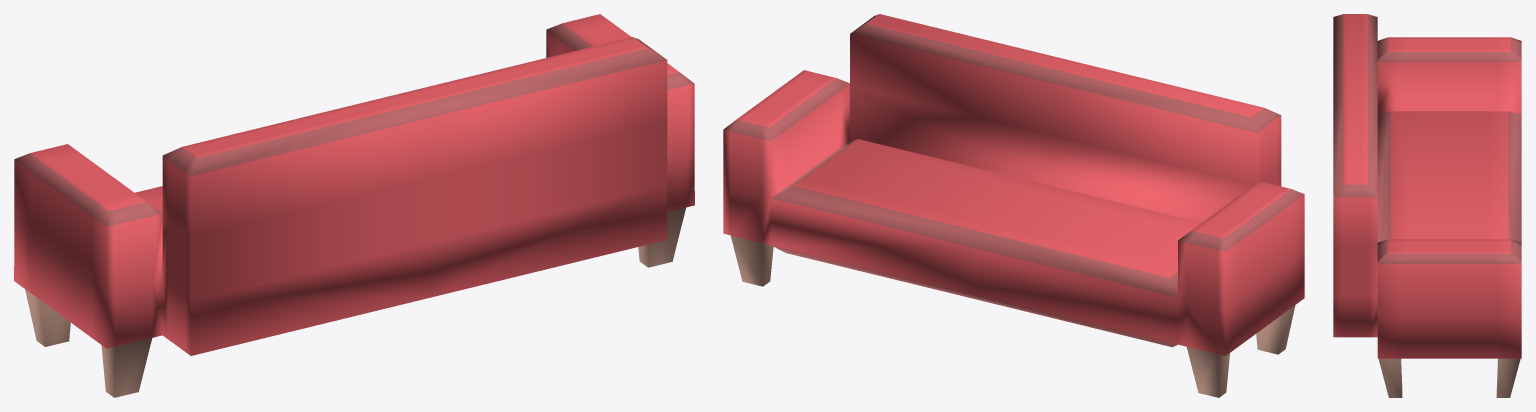
Rendered from Divano.fbx.
3 views of the same model, side by side, from view 1: azimuth 30°, elevation 25°; view 2: azimuth 150°, elevation 25°; view 3: azimuth 270°, elevation 25° (orthographic). The views are drawn at different scales.
Parts seen in each view (by area): view 1: Divano; view 2: Divano; view 3: Divano.
Boxes of the visible parts, bbox=[...] form: Divano: bbox=[14, 14, 694, 397]; Divano: bbox=[723, 14, 1304, 397]; Divano: bbox=[1333, 14, 1521, 397].
Size of the model in its own units: 792 by 319 by 283.
